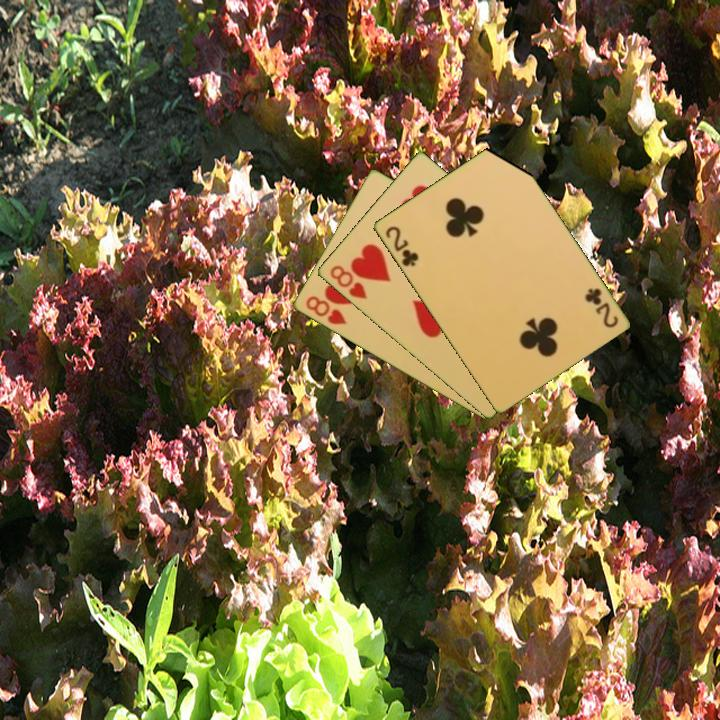2c: (381, 222, 421, 270), (581, 284, 621, 331)
8h: (326, 262, 369, 302), (302, 292, 349, 328)
